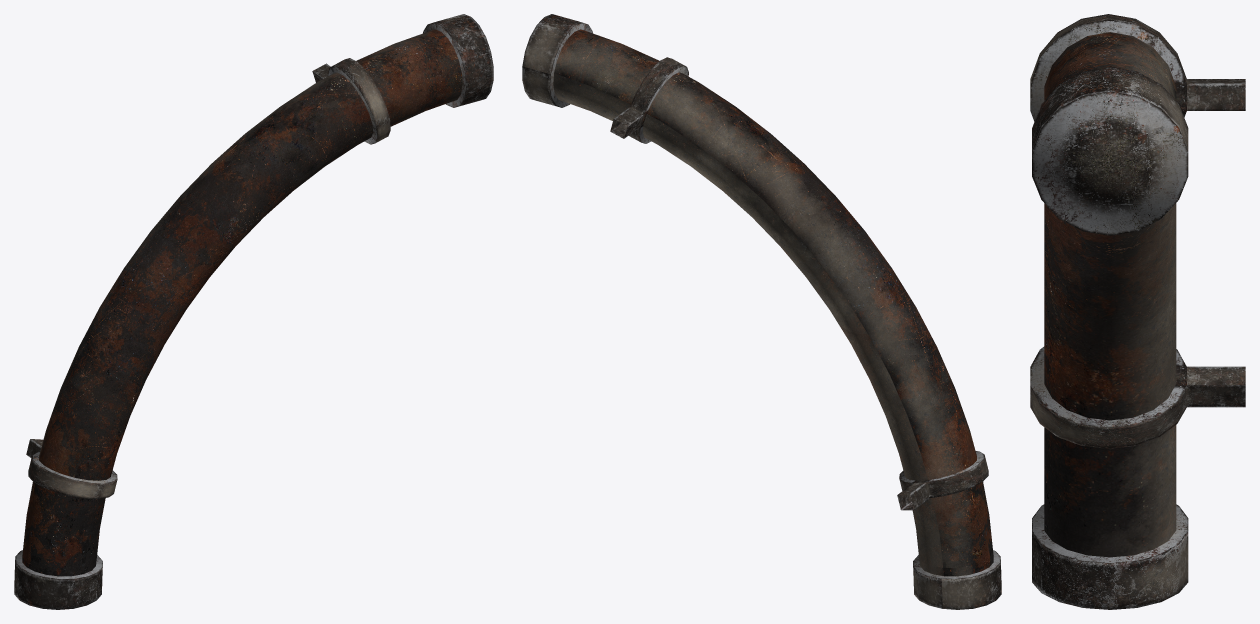
File: SM_PipeBend90.FBX
The picture shows the model from 3 angles, left to right: view 1: azimuth 30°, elevation 25°; view 2: azimuth 150°, elevation 25°; view 3: azimuth 270°, elevation 25°; orthographic projection. The views are drawn at different scales.
Visible parts, largest first — view 1: SM_PipeBend90; view 2: SM_PipeBend90; view 3: SM_PipeBend90.
Boxes of the visible parts, left/top/right/bottom form: SM_PipeBend90: left=14, top=14, right=493, bottom=609; SM_PipeBend90: left=522, top=14, right=1001, bottom=609; SM_PipeBend90: left=1030, top=14, right=1245, bottom=609.
Bounding box in the file's own units: 139 × 32.13 × 139.
